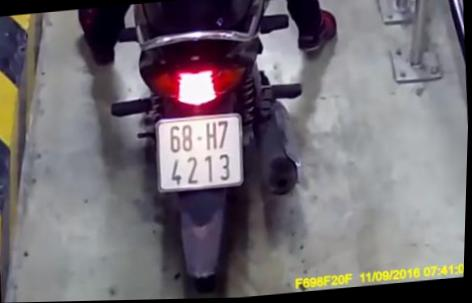LP: (150, 111, 249, 197)
